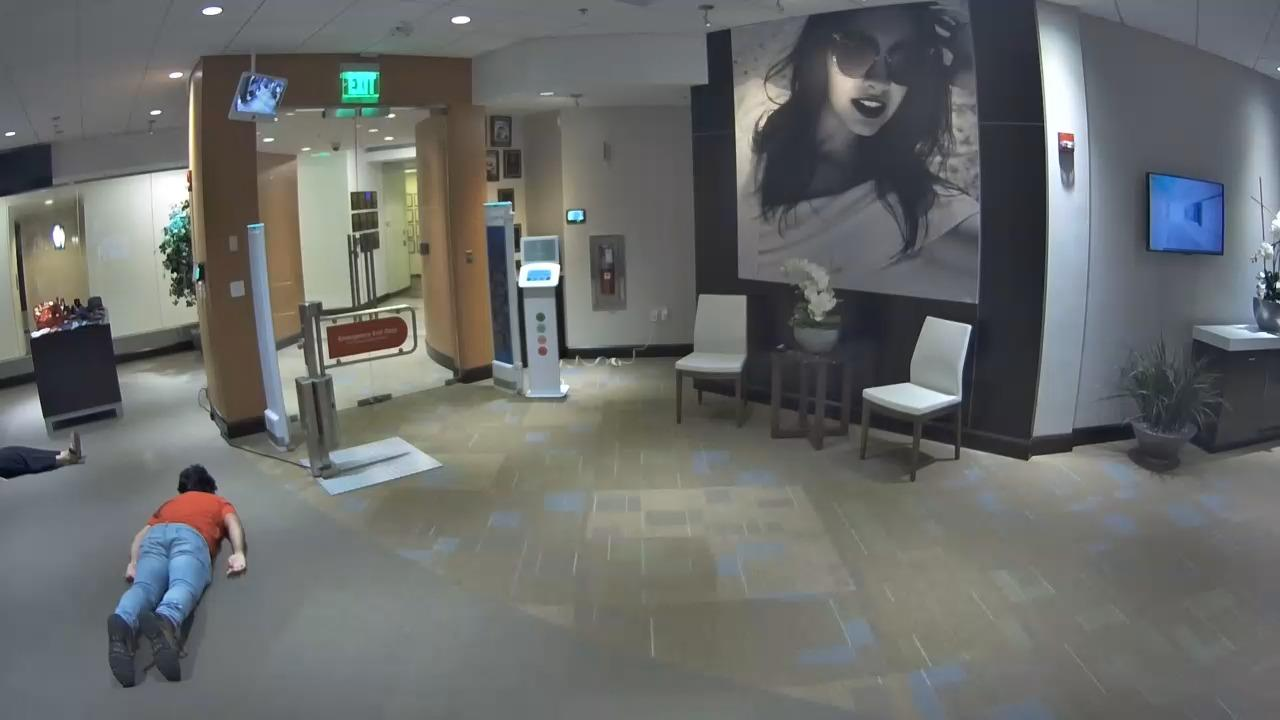fall: (111, 453, 251, 691)
